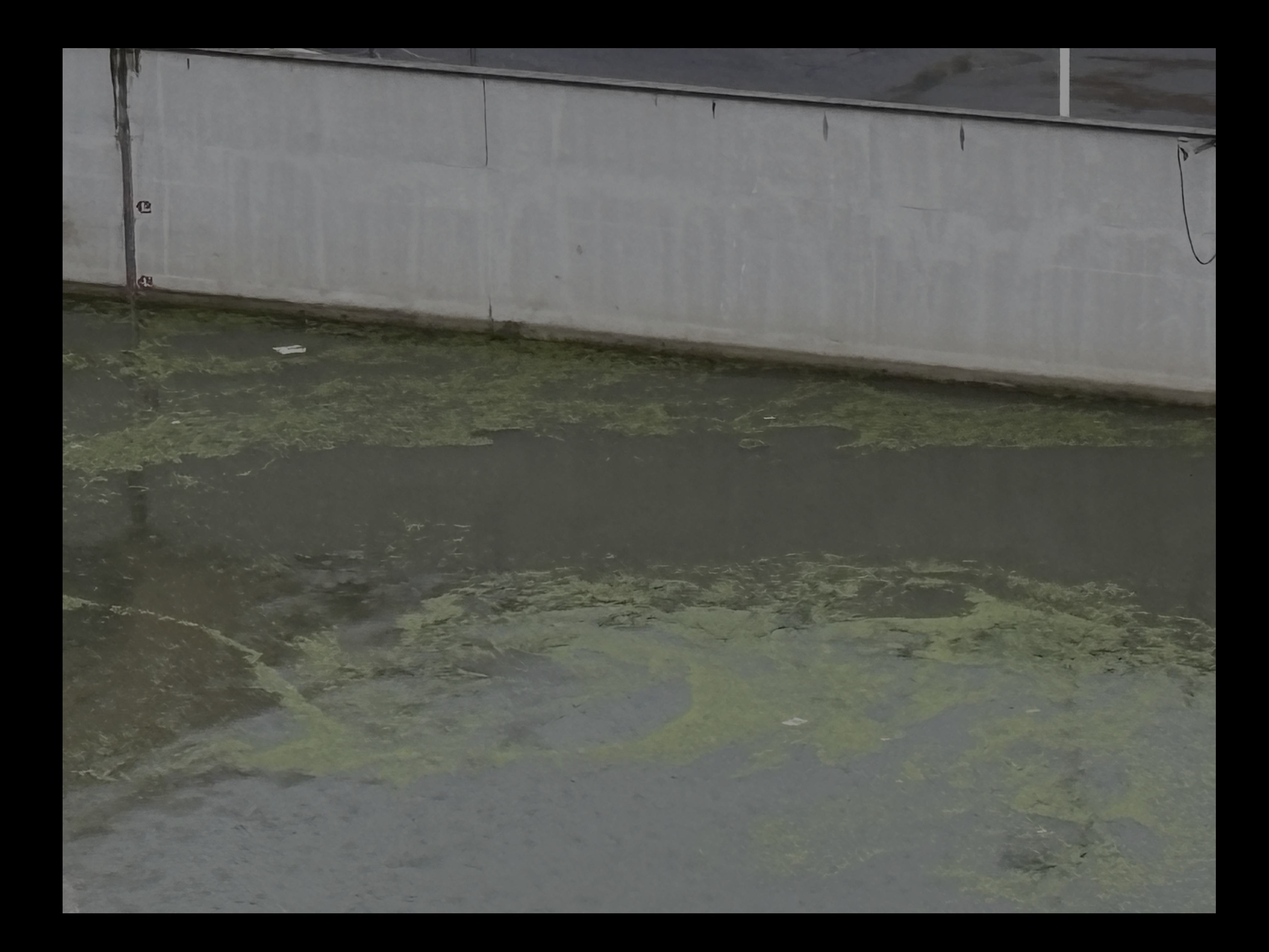Other: (983, 713, 1215, 869), (160, 382, 546, 448), (504, 570, 796, 652), (888, 601, 1159, 681), (295, 631, 441, 773), (849, 384, 1165, 448), (686, 663, 759, 751), (814, 668, 888, 752)
Plastic wastes: (271, 339, 309, 359), (781, 710, 807, 727)
